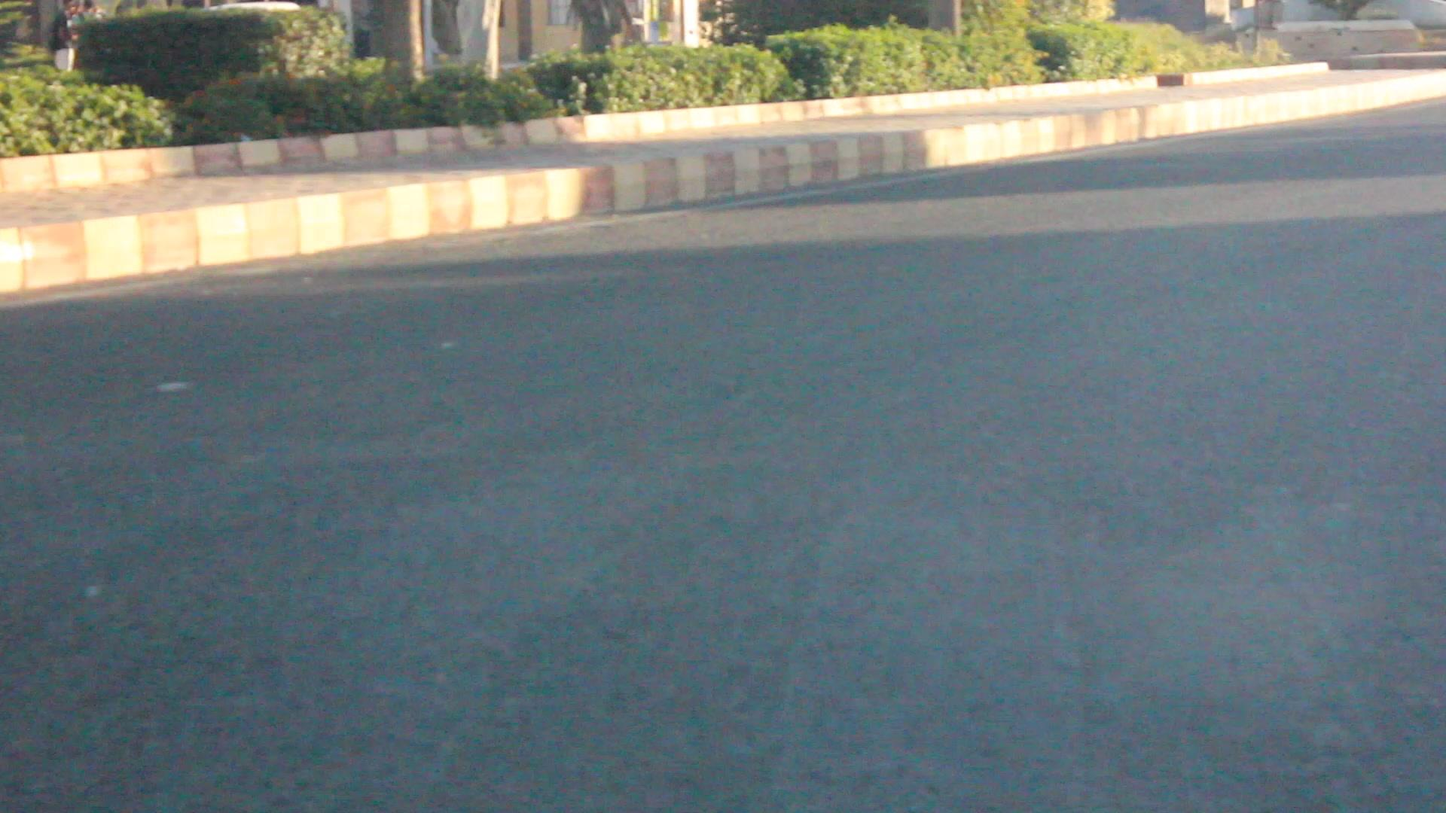Bump: (0, 397, 1446, 646)
